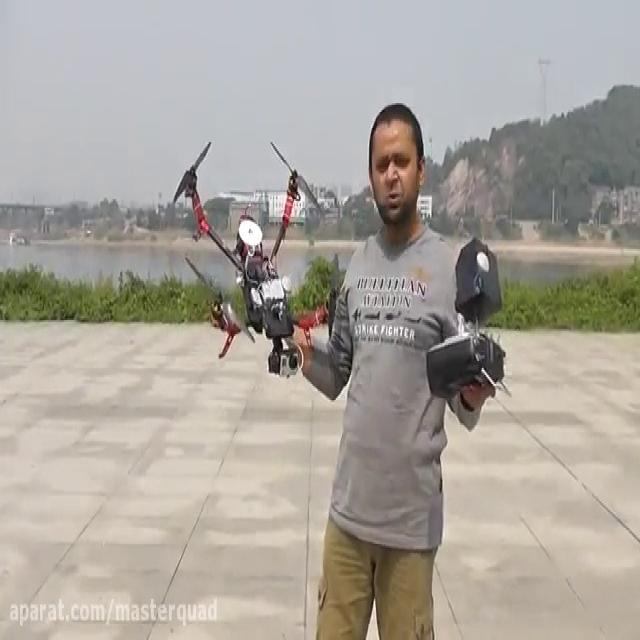drone: (170, 134, 341, 380)
